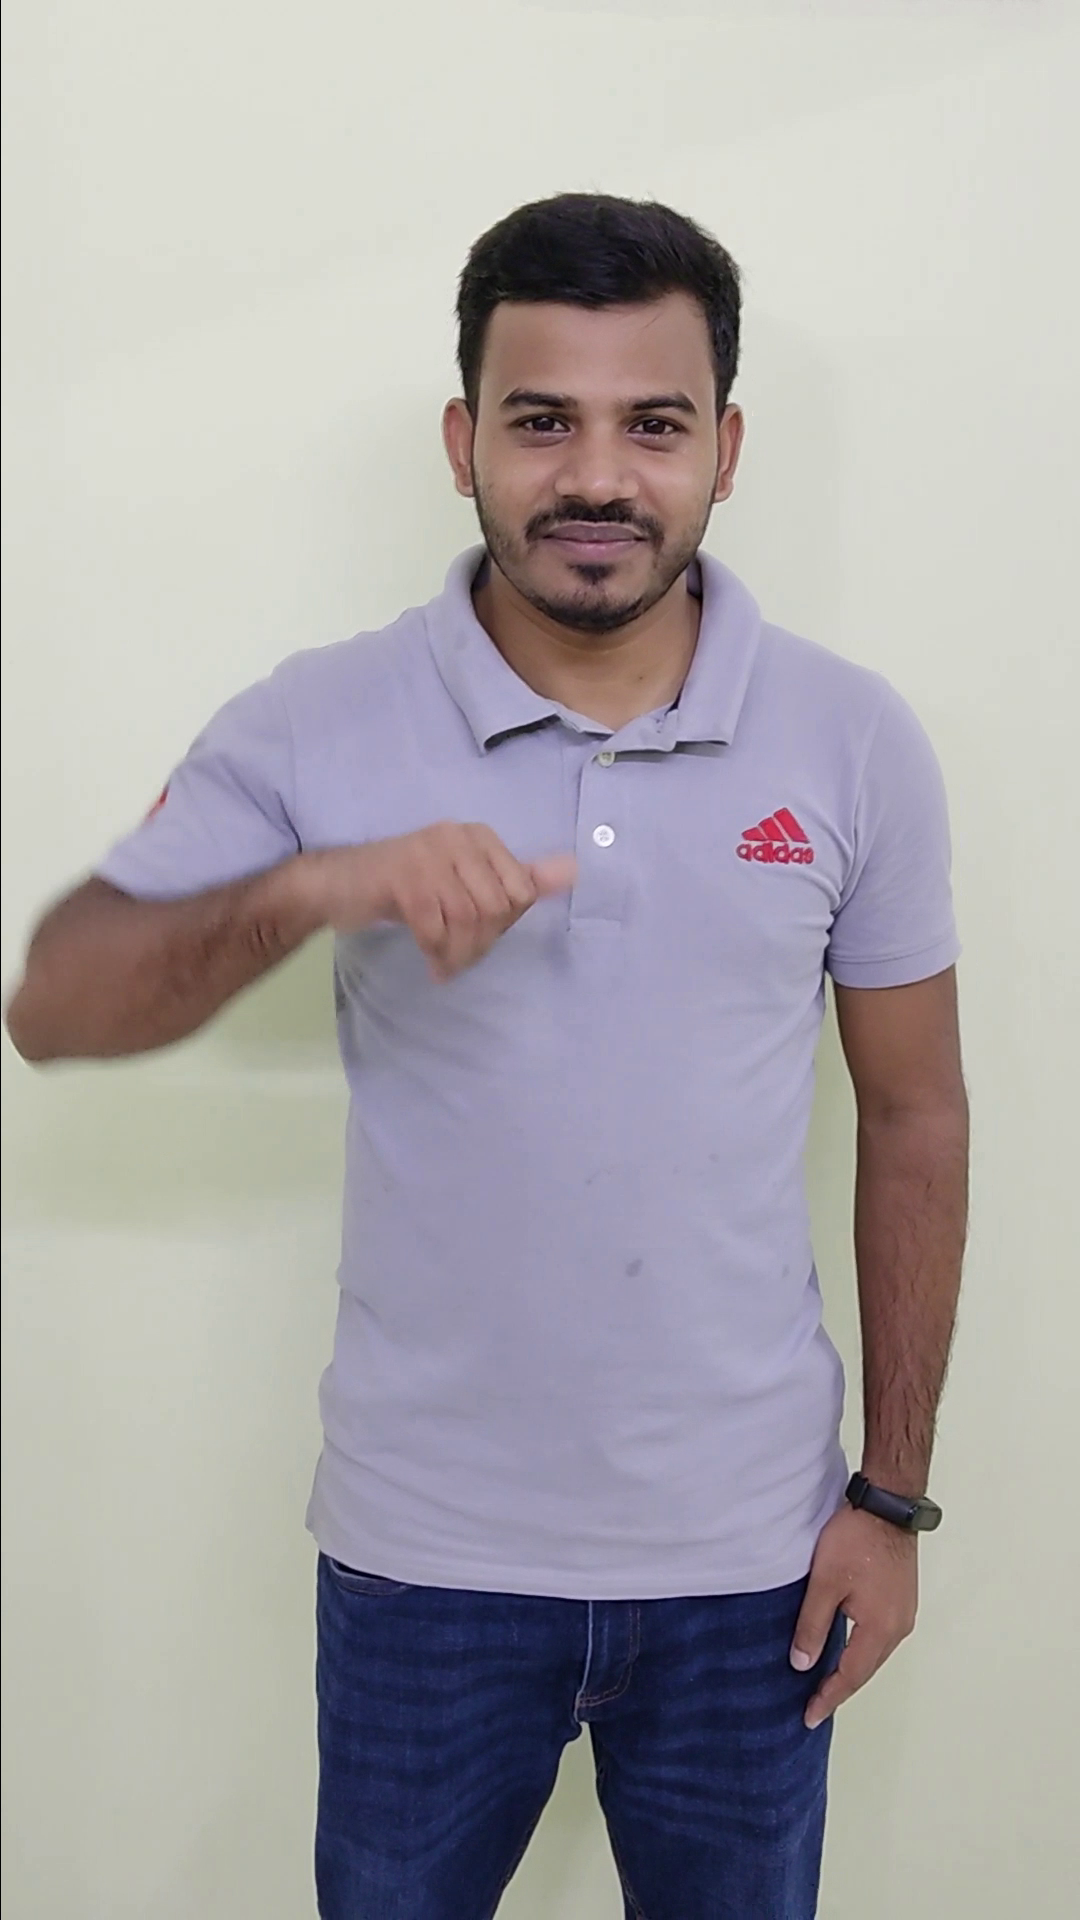Like: (301, 806, 596, 997)
None: (771, 1451, 955, 1745)
